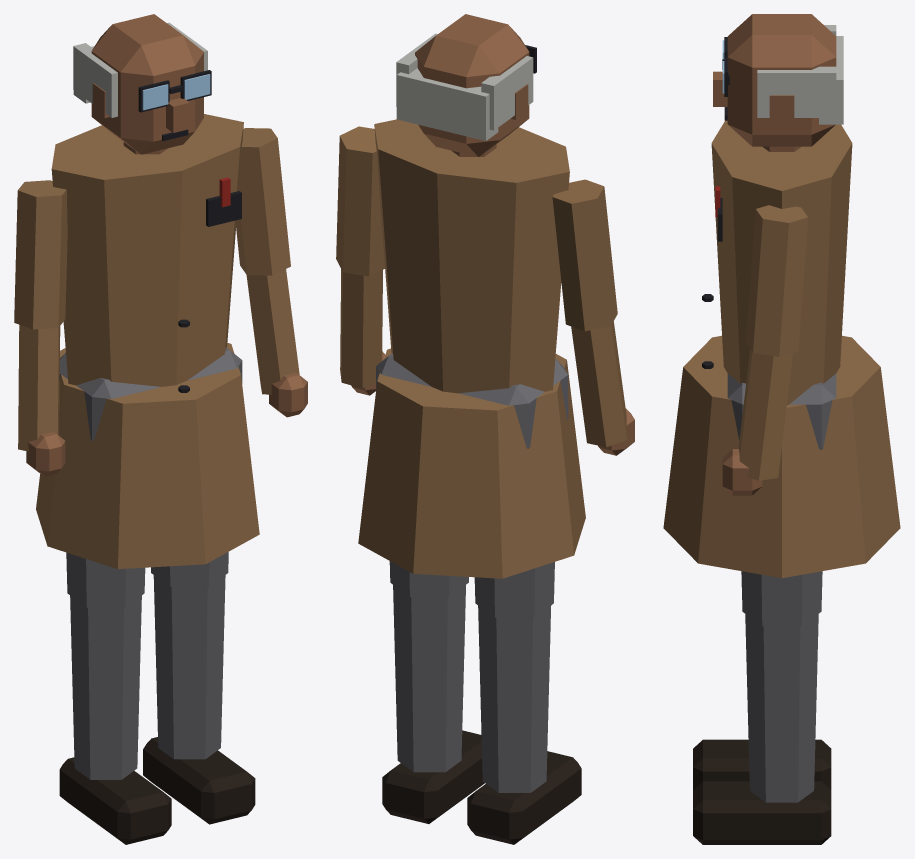
File: person.sol.glb
The picture shows the model from 3 angles, left to right: view 1: azimuth 30°, elevation 25°; view 2: azimuth 150°, elevation 25°; view 3: azimuth 270°, elevation 25°; orthographic projection. The views are drawn at different scales.
Parts seen in each view (by area): view 1: torso, coat-skirt, shin-1, shin1, head, upper-1, upper1, shoe1, shoe-1, fore-1, fore1, thigh-1 (+9 smaller); view 2: torso, coat-skirt, shin-1, shin1, upper-1, head, upper1, shoe-1, fore-1, shoe1, hair-back, fore1 (+4 smaller); view 3: coat-skirt, torso, shin1, head, upper1, shoe1, fore1, thigh1, hair-side1, shoe-1, hips, hand1 (+2 smaller).
Part boxes in pixels (bbox=[...]): torso: bbox=[51, 114, 243, 386]; coat-skirt: bbox=[36, 343, 259, 569]; shin-1: bbox=[70, 595, 141, 779]; shin1: bbox=[153, 575, 225, 759]; head: bbox=[91, 14, 203, 154]; upper-1: bbox=[14, 180, 67, 329]; upper1: bbox=[236, 128, 290, 275]; shoe1: bbox=[143, 737, 255, 824]; shoe-1: bbox=[59, 757, 171, 844]; fore-1: bbox=[18, 325, 60, 451]; fore1: bbox=[246, 269, 299, 394]; thigh-1: bbox=[66, 552, 145, 607]; torso: bbox=[374, 119, 569, 393]; coat-skirt: bbox=[358, 348, 585, 578]; shin-1: bbox=[478, 605, 551, 792]; shin1: bbox=[393, 585, 465, 772]; upper-1: bbox=[552, 179, 617, 331]; head: bbox=[415, 14, 529, 156]; upper1: bbox=[336, 126, 384, 276]; shoe-1: bbox=[467, 751, 581, 844]; fore-1: bbox=[571, 321, 627, 447]; shoe1: bbox=[382, 730, 484, 823]; hair-back: bbox=[396, 68, 498, 140]; fore1: bbox=[340, 269, 382, 388]; coat-skirt: bbox=[663, 335, 900, 578]; torso: bbox=[711, 120, 852, 404]; shin1: bbox=[745, 614, 818, 802]; head: bbox=[727, 14, 836, 146]; upper1: bbox=[746, 205, 808, 356]; shoe1: bbox=[693, 781, 831, 844]; fore1: bbox=[738, 349, 792, 480]; thigh1: bbox=[741, 571, 822, 626]; hair-side1: bbox=[757, 66, 836, 117]; shoe-1: bbox=[693, 739, 831, 789]; hips: bbox=[727, 373, 836, 449]; hand1: bbox=[722, 449, 762, 495].
Size of the model in its own units: 0.6746 by 1.76 by 0.48.
